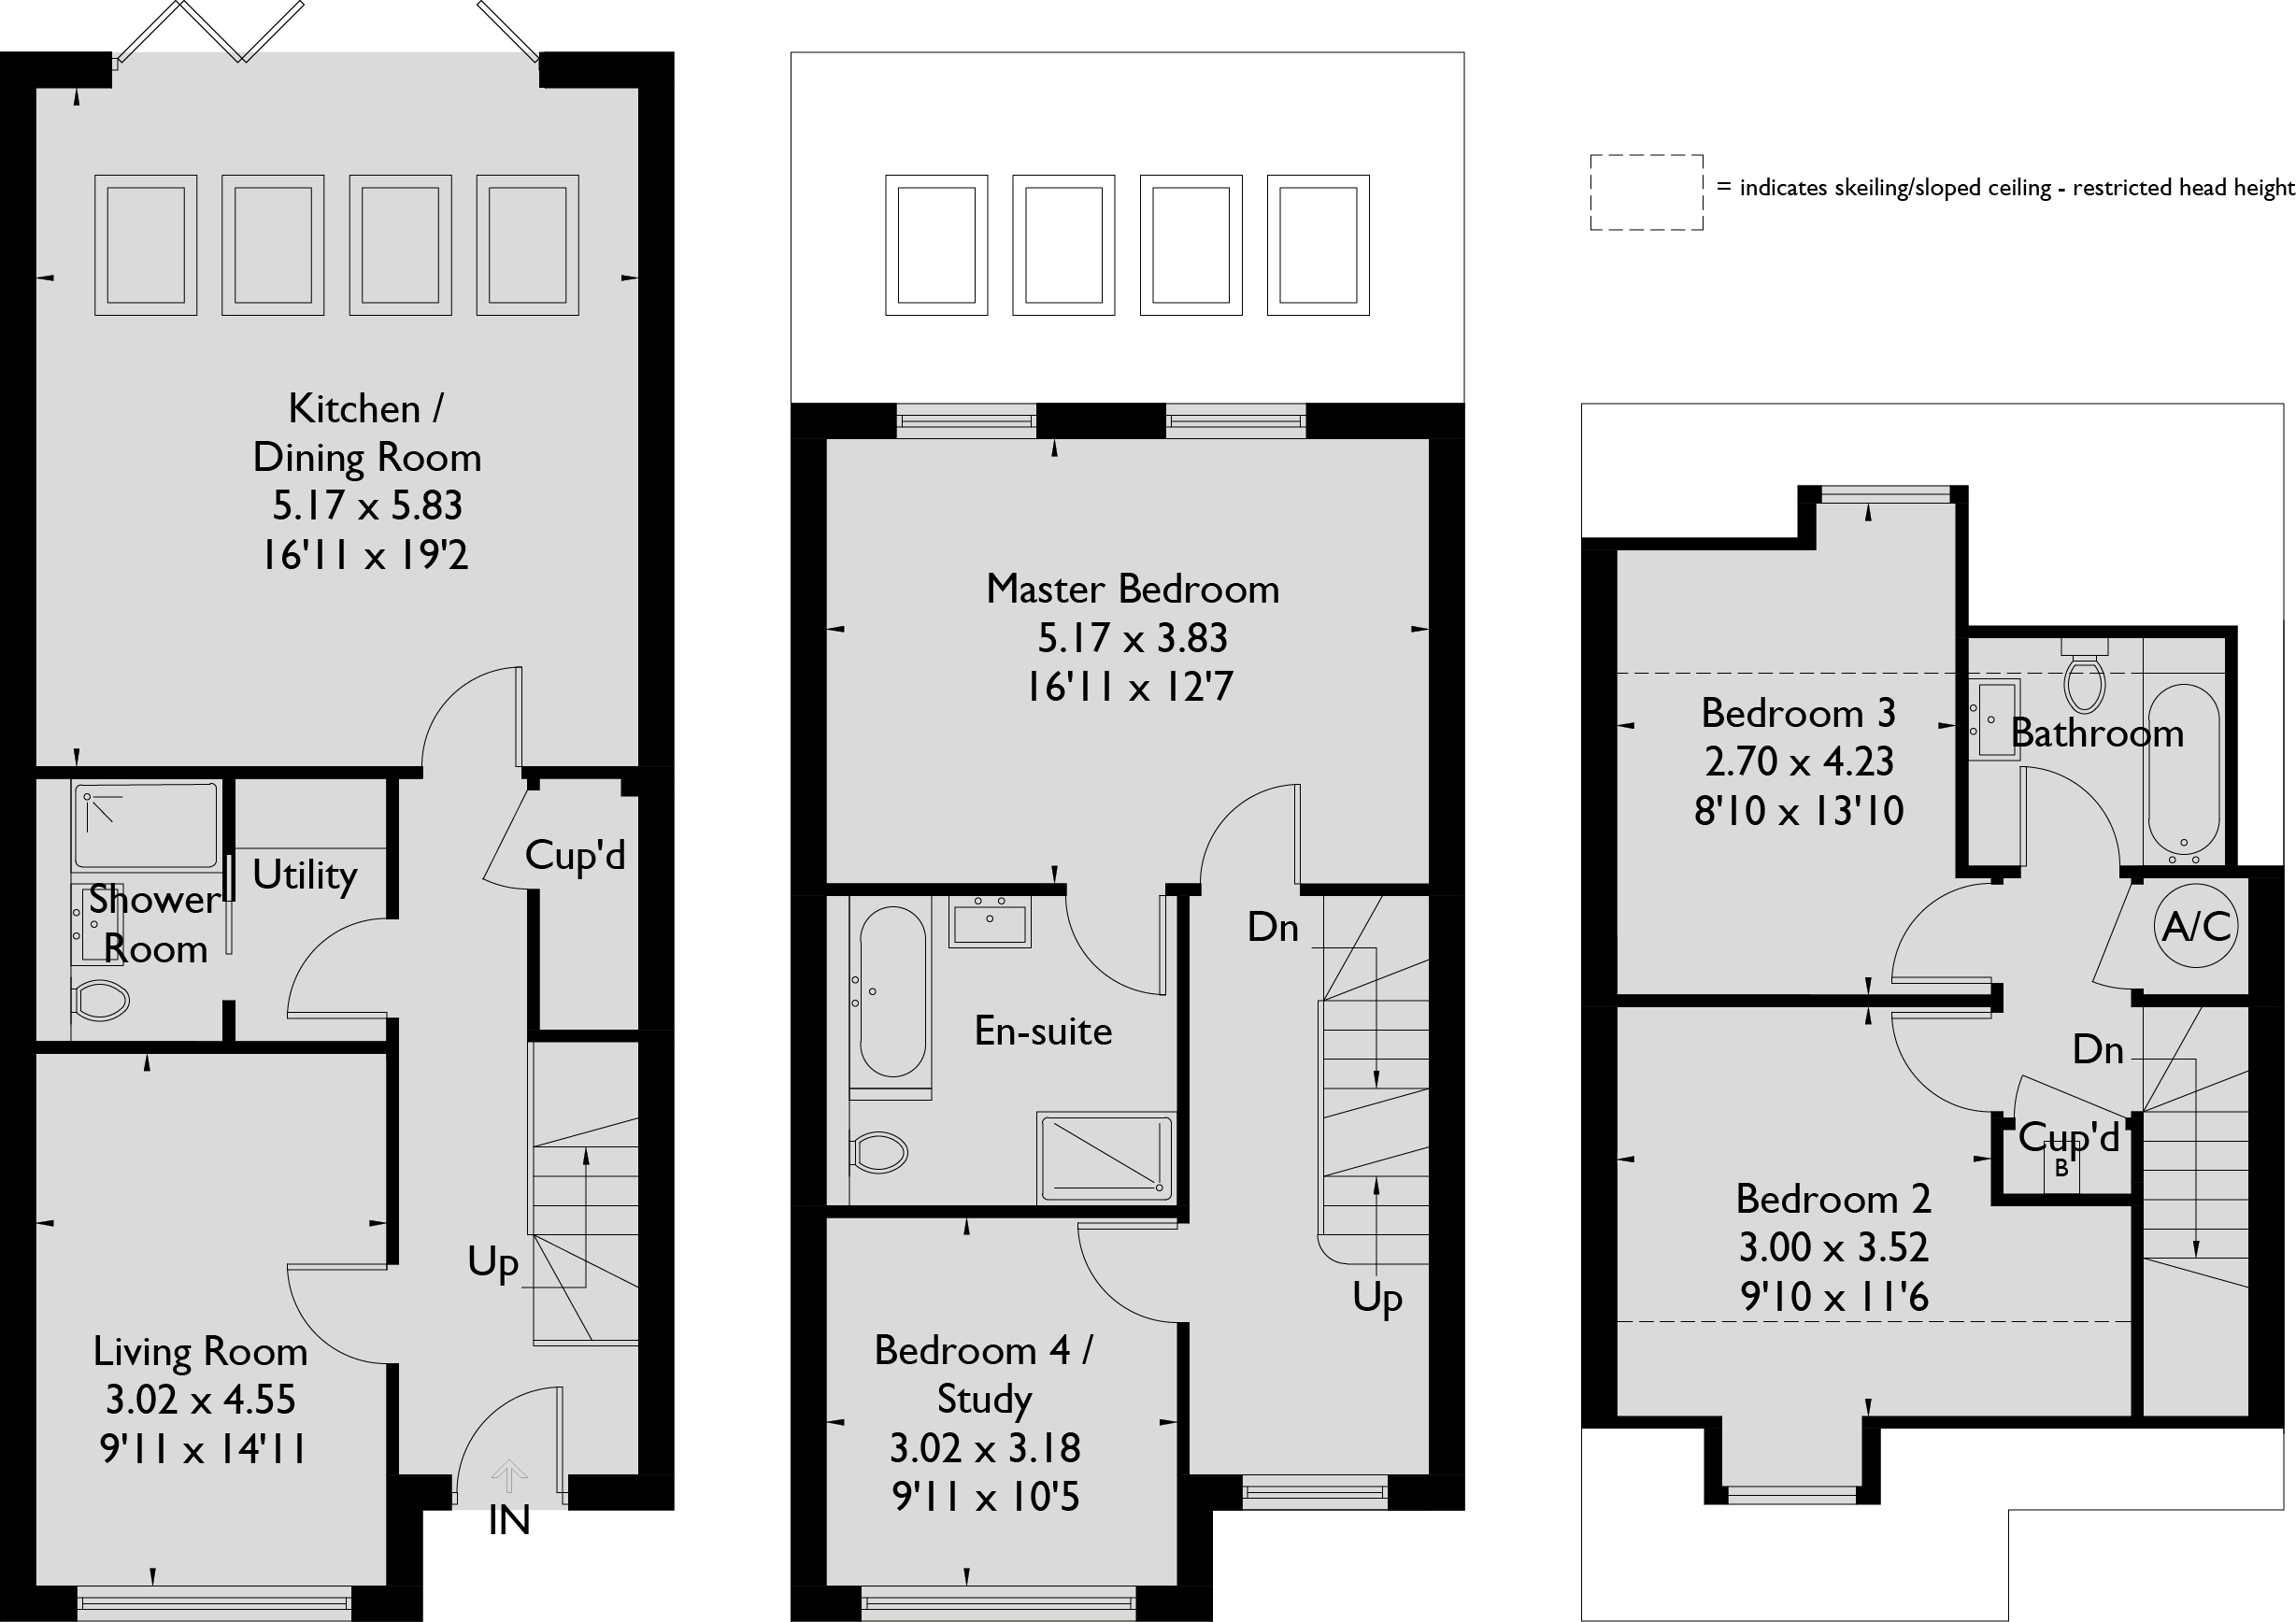door: (1194, 783, 1313, 886), (1868, 888, 1987, 990), (1050, 901, 1169, 1002), (1885, 1008, 1994, 1115), (418, 662, 528, 765), (279, 916, 383, 1025), (453, 1383, 569, 1480), (286, 1260, 384, 1369), (1074, 1222, 1176, 1325), (2022, 764, 2124, 865), (2085, 888, 2143, 990), (2012, 1071, 2124, 1118), (477, 793, 528, 892)
